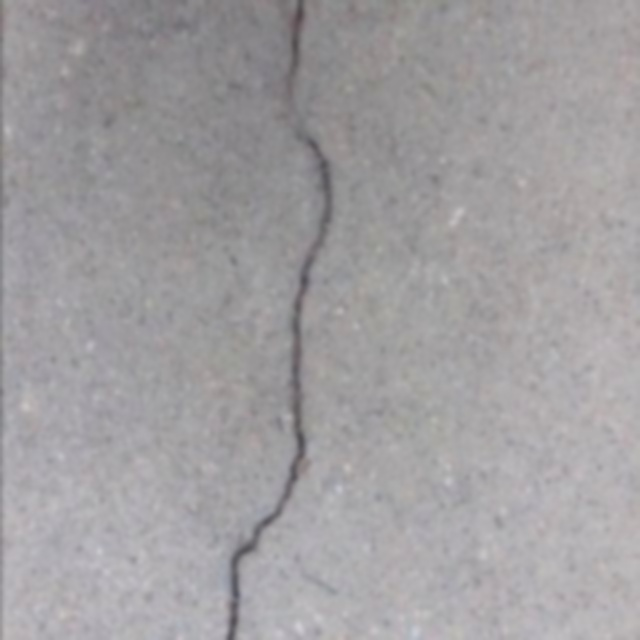SurfaceCrack: (192, 0, 368, 640)
